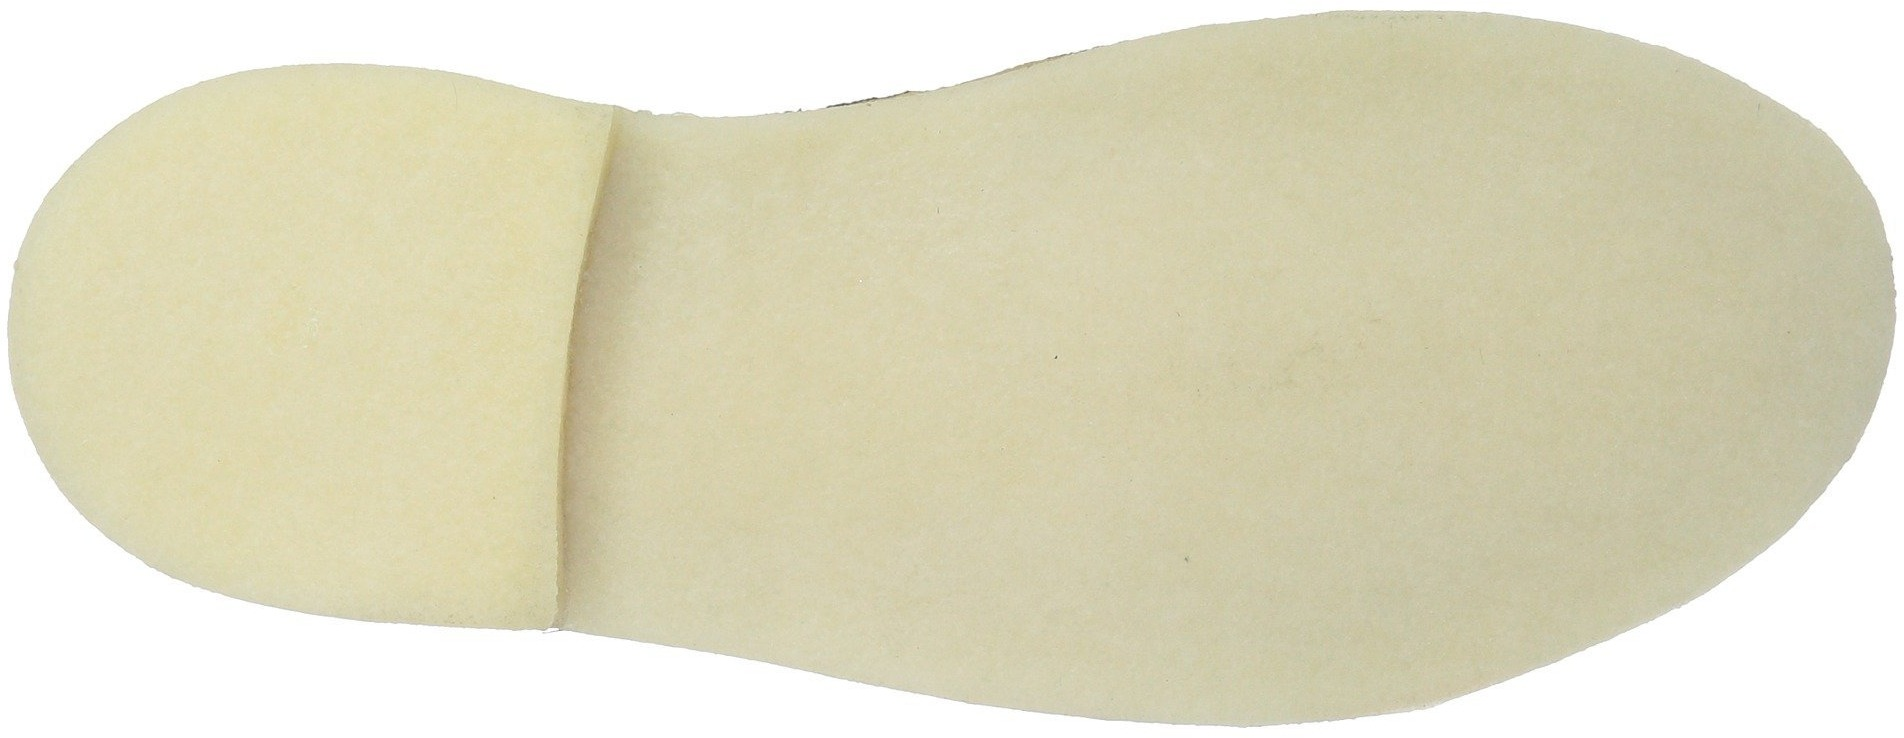other: (1413, 126, 1807, 510), (1022, 108, 1396, 437), (661, 151, 1015, 477), (104, 165, 465, 470)
